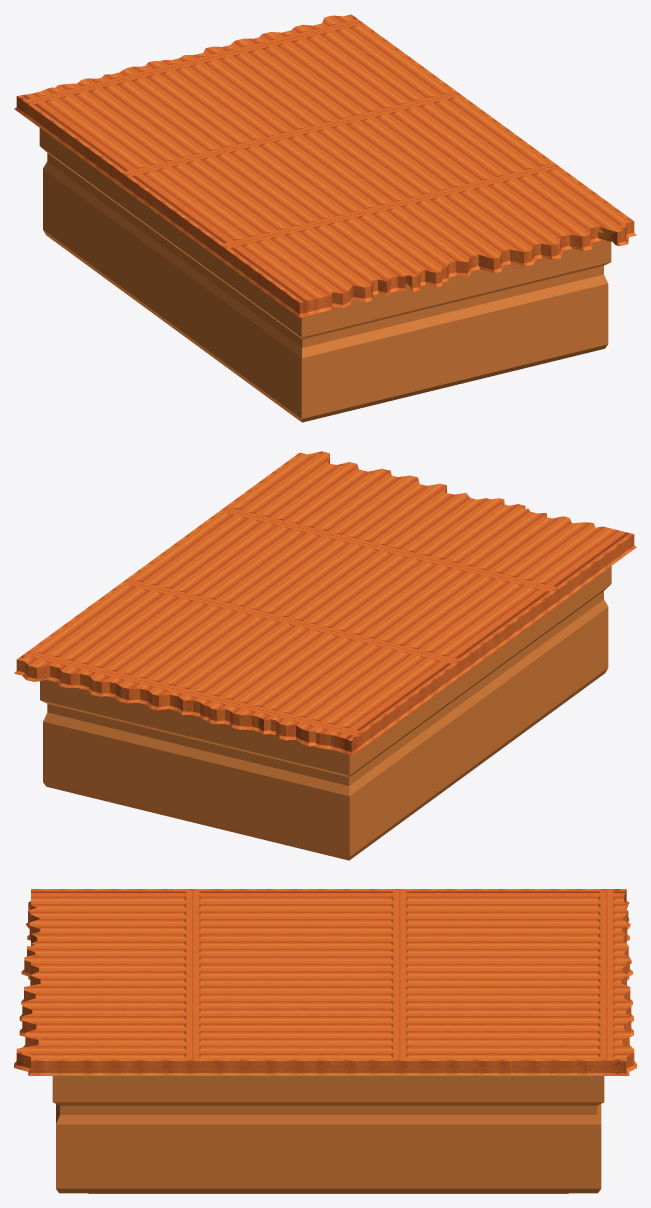
Rendered from StorageContainer1.fbx.
The picture shows the model from 3 angles, top to bottom: view 1: azimuth 30°, elevation 25°; view 2: azimuth 150°, elevation 25°; view 3: azimuth 270°, elevation 25°; orthographic projection. The views are drawn at different scales.
Visible parts, largest first — view 1: Cube; view 2: Cube; view 3: Cube.
Boxes of the visible parts, bbox=[...] form: Cube: bbox=[14, 14, 636, 422]; Cube: bbox=[14, 451, 636, 860]; Cube: bbox=[14, 889, 636, 1193].
Size of the model in its own units: 378 by 152 by 573.
